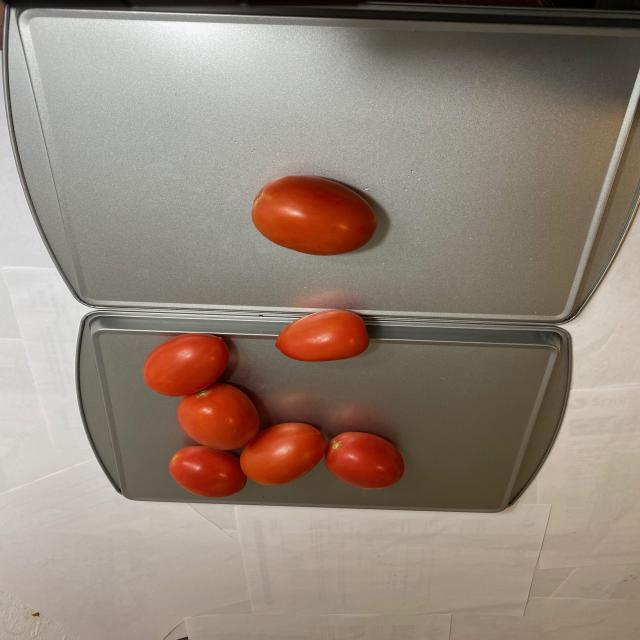tomato: (139, 309, 409, 499), (246, 173, 378, 259)
